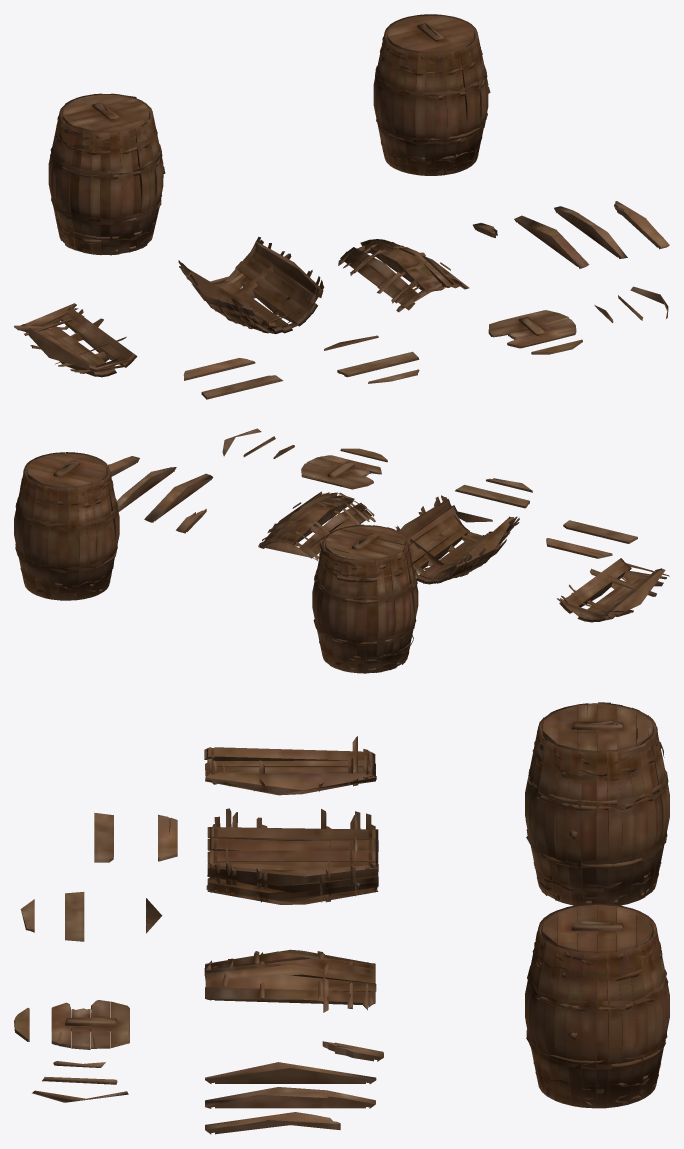
File: wooden_barrels_01_lod2.glb
3 renders of one model, top to bottom at view 1: azimuth 30°, elevation 25°; view 2: azimuth 150°, elevation 25°; view 3: azimuth 270°, elevation 25°, orthographic. The views are drawn at different scales.
Parts seen in each view (by area): view 1: wooden_barrels_01_piece01, wooden_barrels_01_barrel01, wooden_barrels_01_barrel02; view 2: wooden_barrels_01_piece01, wooden_barrels_01_barrel02, wooden_barrels_01_barrel01; view 3: wooden_barrels_01_piece01, wooden_barrels_01_barrel01, wooden_barrels_01_barrel02.
Part boxes in pixels (<box>): wooden_barrels_01_piece01: <box>14,201,669,399</box>; wooden_barrels_01_barrel01: <box>373,14,490,175</box>; wooden_barrels_01_barrel02: <box>48,93,165,255</box>; wooden_barrels_01_piece01: <box>108,428,669,622</box>; wooden_barrels_01_barrel02: <box>312,524,418,673</box>; wooden_barrels_01_barrel01: <box>14,452,119,600</box>; wooden_barrels_01_piece01: <box>14,736,383,1134</box>; wooden_barrels_01_barrel01: <box>525,903,669,1108</box>; wooden_barrels_01_barrel02: <box>525,702,669,905</box>.
Bounding box in the file's own units: 4.44 × 0.9523 × 3.34.
Materials: 3 (3 with a texture image).
